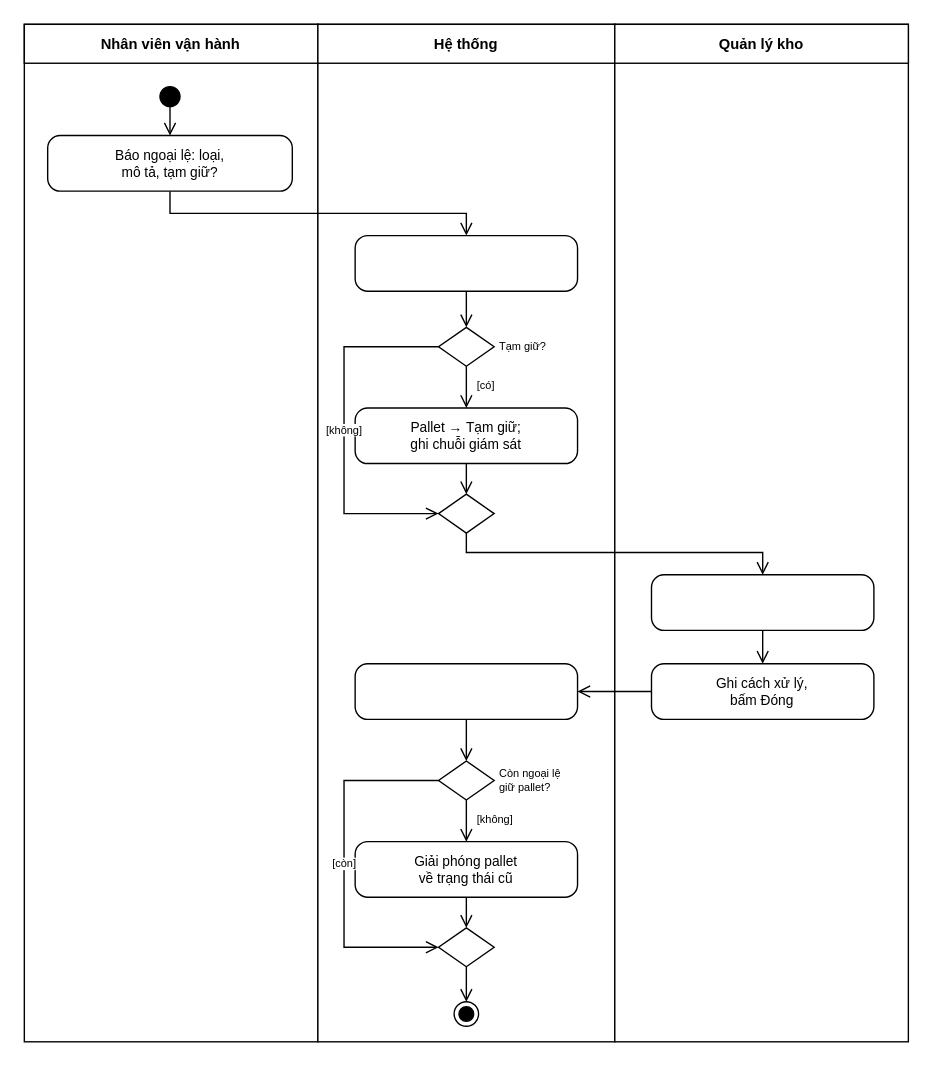
Some shapes in this 933 by 1066 pixel diagram are drawn without their labels. The centre of each missing label's shape, as x and y in pixels:
"Lưu ngoại lệ (Đang mở)" belongs at (466,262).
"Ngoại lệ: Đã xử lý" belongs at (466,690).
"Xem danh sách ngoại lệ" belongs at (762,601).
